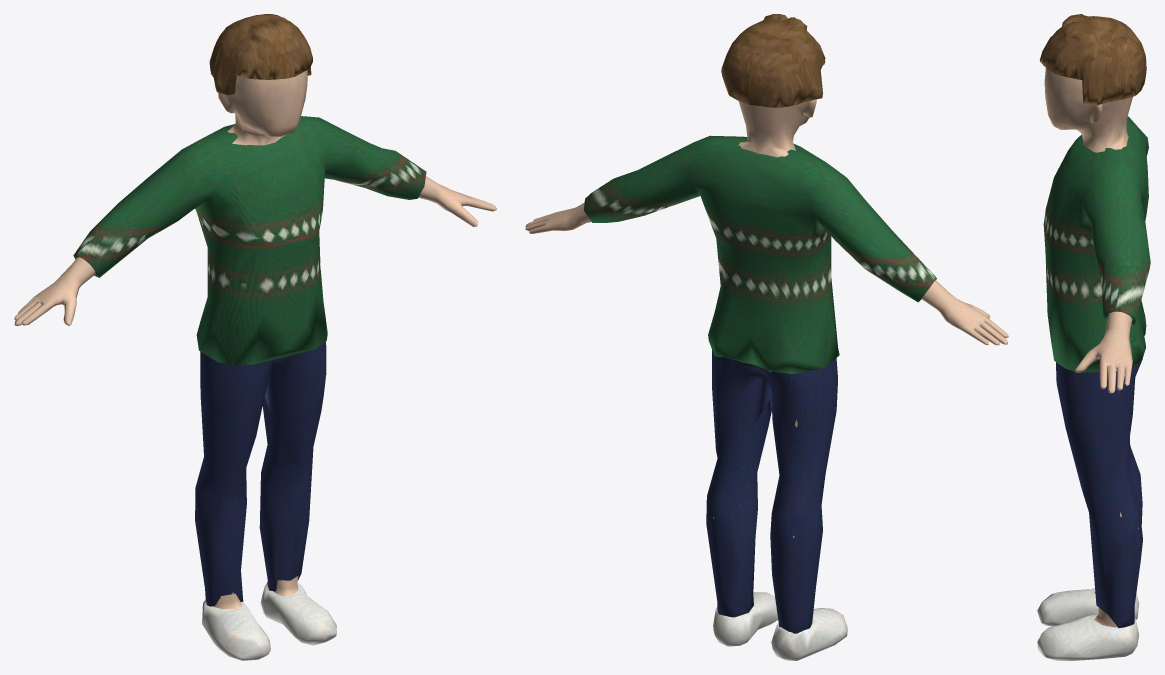
The model's file is npc_x_boy1.glb.
3 views of the same model, side by side, from view 1: azimuth 30°, elevation 25°; view 2: azimuth 150°, elevation 25°; view 3: azimuth 270°, elevation 25° (orthographic).
Visible parts, largest first — view 1: Human; view 2: Human; view 3: Human.
Part boxes in pixels (x1,y1,x2,y2): Human: (14,14,496,660); Human: (525,14,1008,660); Human: (1037,14,1150,660).
Size of the model in its own units: 1.16 by 1.42 by 0.2367.
1 material, 1 textured.
